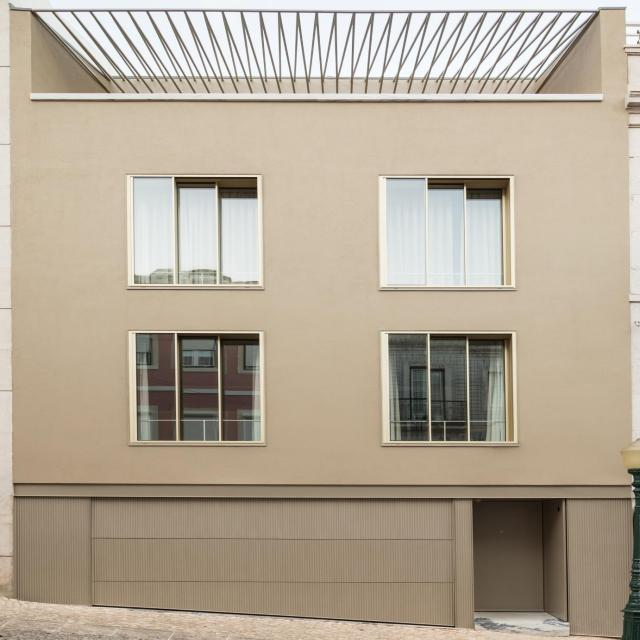door: (476, 500, 550, 615)
wall: (14, 5, 635, 640)
windows: (138, 178, 267, 288), (391, 177, 511, 288), (392, 337, 514, 443), (140, 336, 262, 441)
